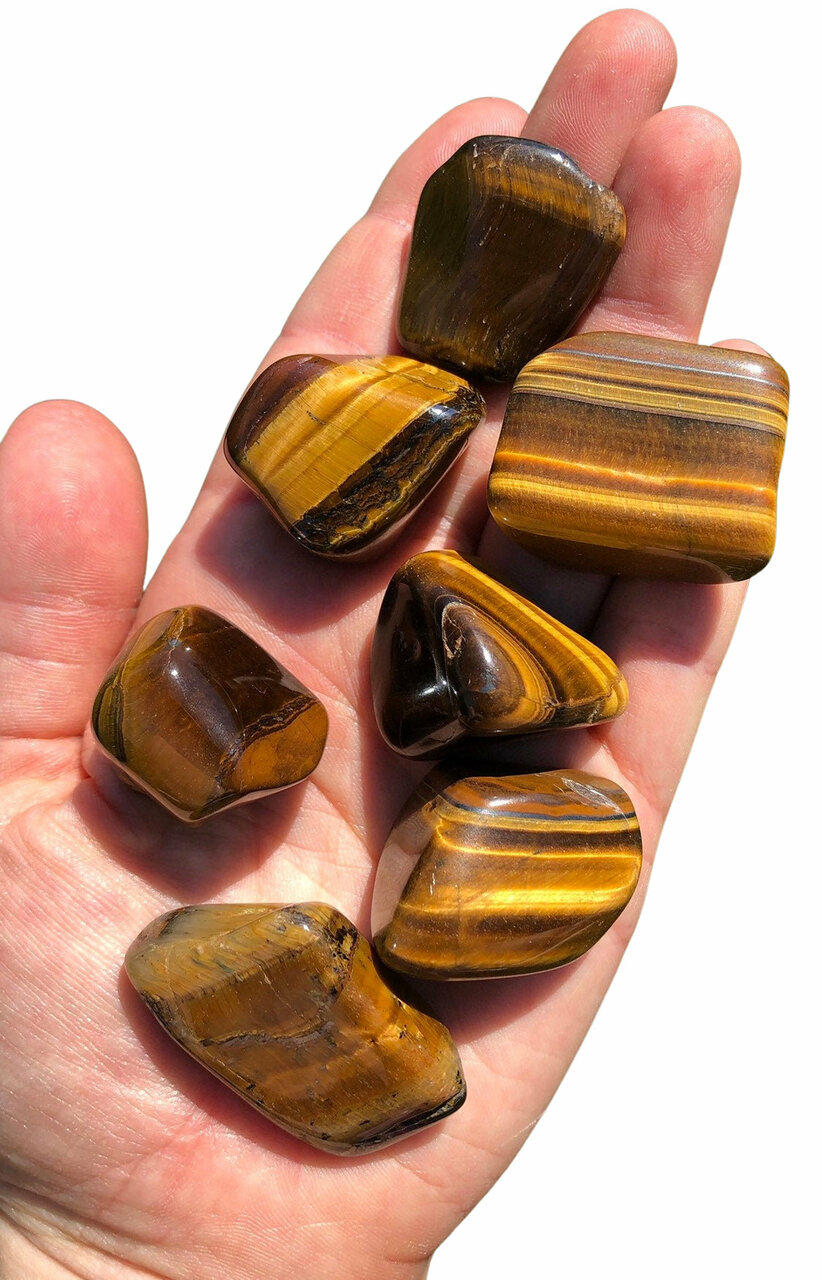Tigers_Eye: (123, 897, 467, 1171), (472, 331, 789, 585), (222, 348, 487, 564), (90, 602, 334, 830)
